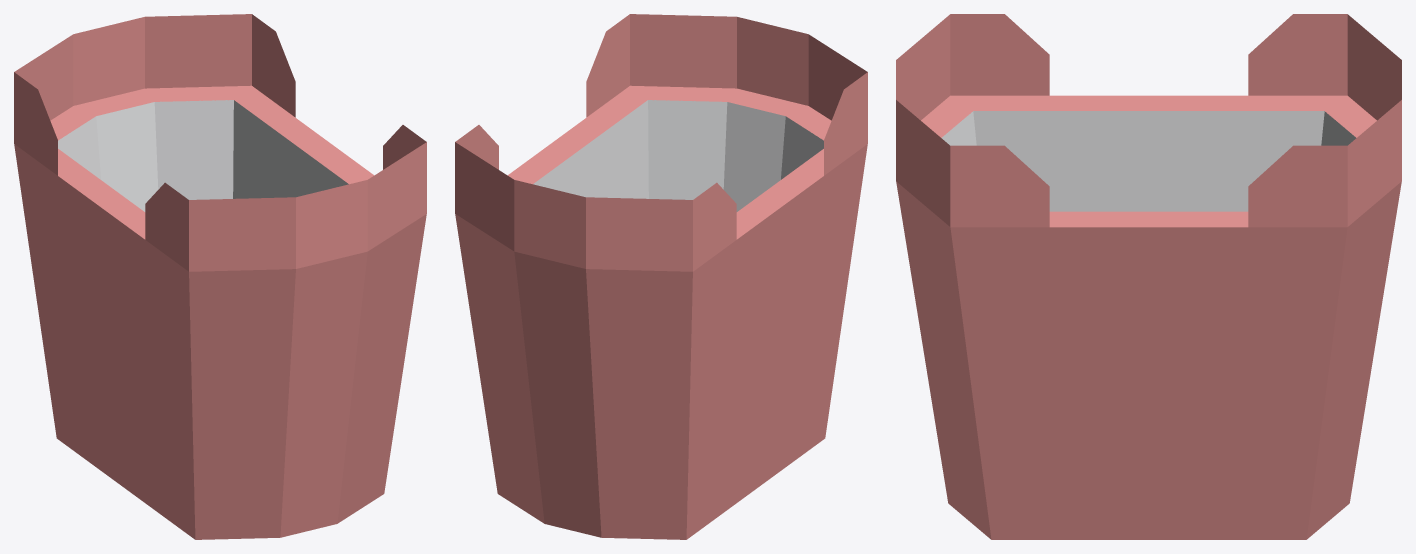
3 renders of one model, left to right at view 1: azimuth 30°, elevation 25°; view 2: azimuth 150°, elevation 25°; view 3: azimuth 270°, elevation 25°, orthographic. The views are drawn at different scales.
Visible parts, largest first — view 1: friesEmpty; view 2: friesEmpty; view 3: friesEmpty.
Part boxes in pixels (left/top/right/bottom): friesEmpty: left=14, top=14, right=426, bottom=539; friesEmpty: left=455, top=14, right=867, bottom=539; friesEmpty: left=896, top=14, right=1401, bottom=539.
Size of the model in its own units: 0.1635 by 0.236 by 0.2653.
